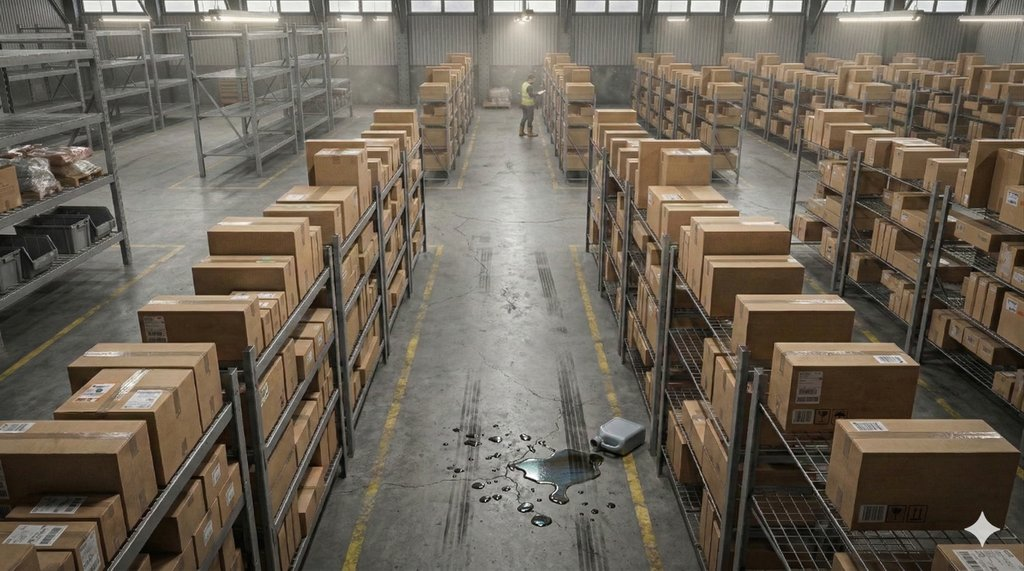empty_shelf: (190, 25, 305, 146), (6, 32, 118, 131), (126, 23, 192, 129), (307, 23, 366, 127)
obstacle: (580, 415, 651, 465)
person: (510, 73, 542, 142)
safety_vest: (520, 82, 538, 110)
spill: (451, 396, 644, 538)
